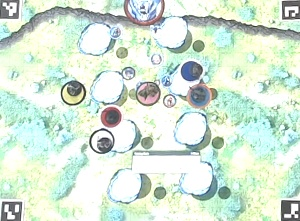blue: (180, 59, 203, 83)
light_blue_orange: (188, 84, 211, 107)
lime_green_violet: (61, 81, 84, 104)
pink_green: (137, 83, 160, 106)
red: (100, 105, 122, 128)
white: (91, 131, 114, 154)
